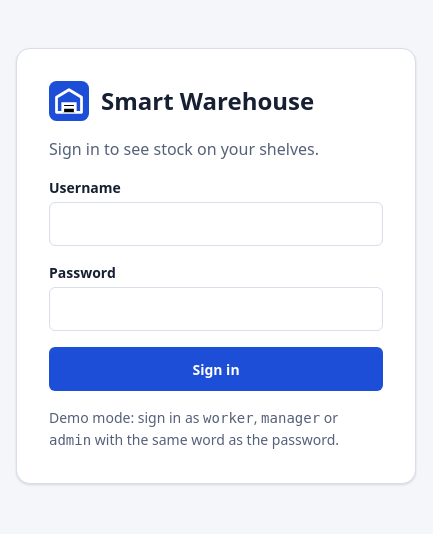
LoginPage › shows an error when login fails
The image size is (433, 534).
Type "worker" into the field labelled "Username" at (216, 224), box top-left (49, 202), bottom-right (383, 246)
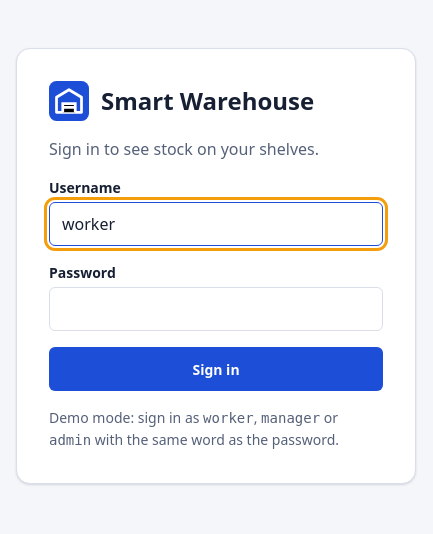
Type "wrong" into the password field labelled "Password" at (216, 309), box top-left (49, 287), bottom-right (383, 331)
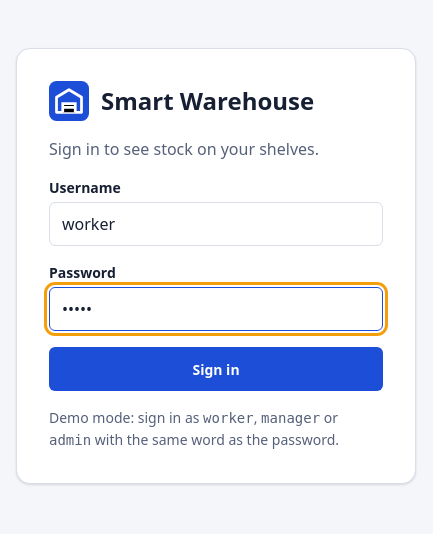
Click the button "Sign in" at (216, 369), box top-left (49, 347), bottom-right (383, 391)
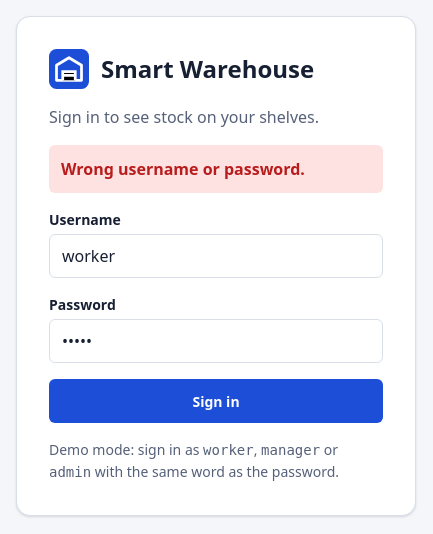
expect the message reads "Wrong username or password.": met, box top-left (61, 158), bottom-right (305, 180)
